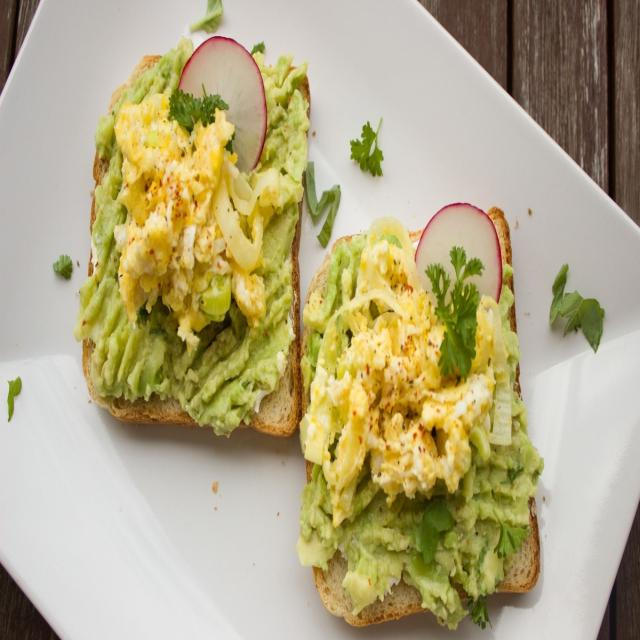aguacate: (84, 44, 293, 419)
